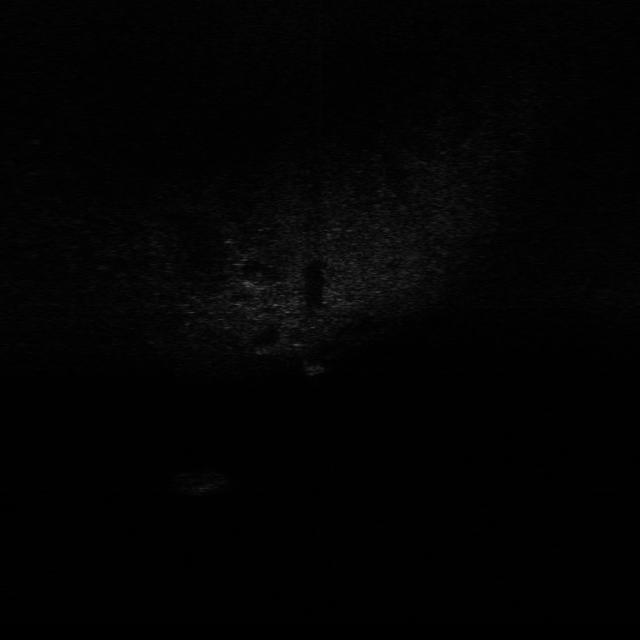circle cage: (166, 461, 232, 499)
cube: (297, 357, 331, 376)
